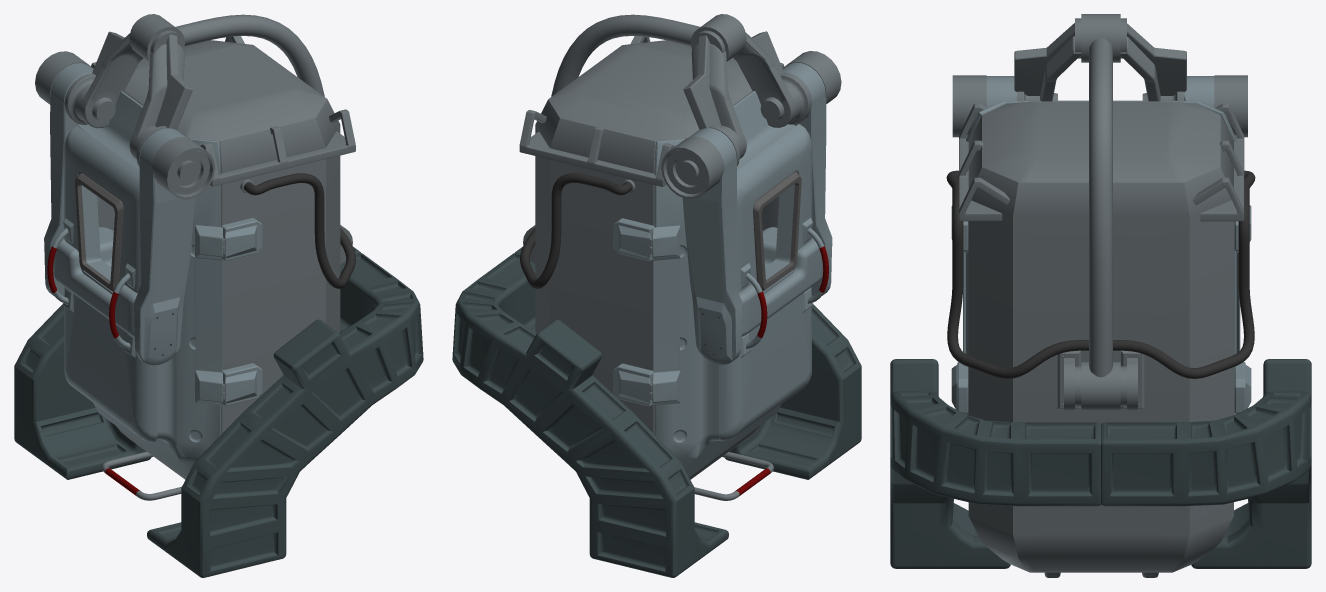
File: Sleep_Capsule.fbx
3 views of the same model, side by side, from view 1: azimuth 30°, elevation 25°; view 2: azimuth 150°, elevation 25°; view 3: azimuth 270°, elevation 25° (orthographic). The views are drawn at different scales.
Parts seen in each view (by area): view 1: Sleep_Capsule_Body, Sleep_Capsule_Door; view 2: Sleep_Capsule_Body, Sleep_Capsule_Door; view 3: Sleep_Capsule_Body, Sleep_Capsule_Door.
Boxes of the visible parts, box(x1,y1,x2,y2) form: Sleep_Capsule_Body: box(14, 14, 423, 577); Sleep_Capsule_Door: box(44, 63, 195, 442); Sleep_Capsule_Body: box(452, 14, 861, 577); Sleep_Capsule_Door: box(682, 62, 832, 441); Sleep_Capsule_Body: box(890, 14, 1311, 577); Sleep_Capsule_Door: box(986, 76, 1214, 107).
Bounding box in the file's own units: 197 × 316 × 226.
